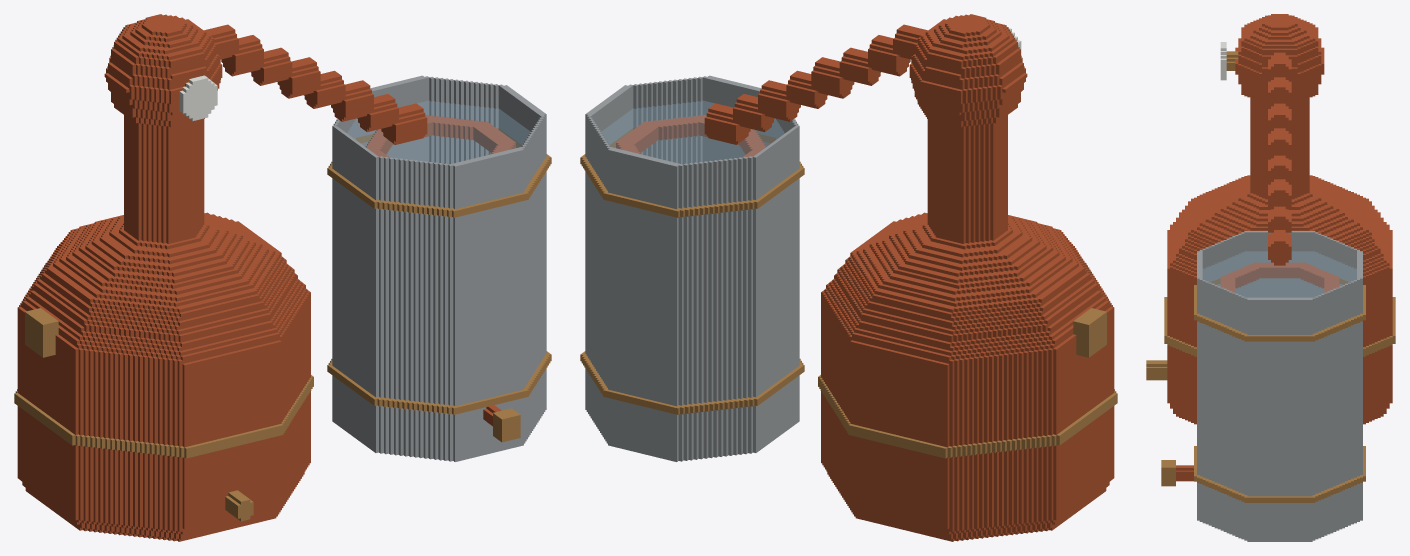
Rendered from still.glb.
3 views of the same model, side by side, from view 1: azimuth 30°, elevation 25°; view 2: azimuth 150°, elevation 25°; view 3: azimuth 270°, elevation 25° (orthographic). The views are drawn at different scales.
Visible parts, largest first — view 1: still:compound; view 2: still:compound; view 3: still:compound.
Part boxes in pixels (bbox=[...]): still:compound: bbox=[14, 14, 551, 541]; still:compound: bbox=[580, 14, 1117, 541]; still:compound: bbox=[1146, 14, 1395, 541].
Size of the model in its own units: 0.632 by 0.56 by 0.336.
